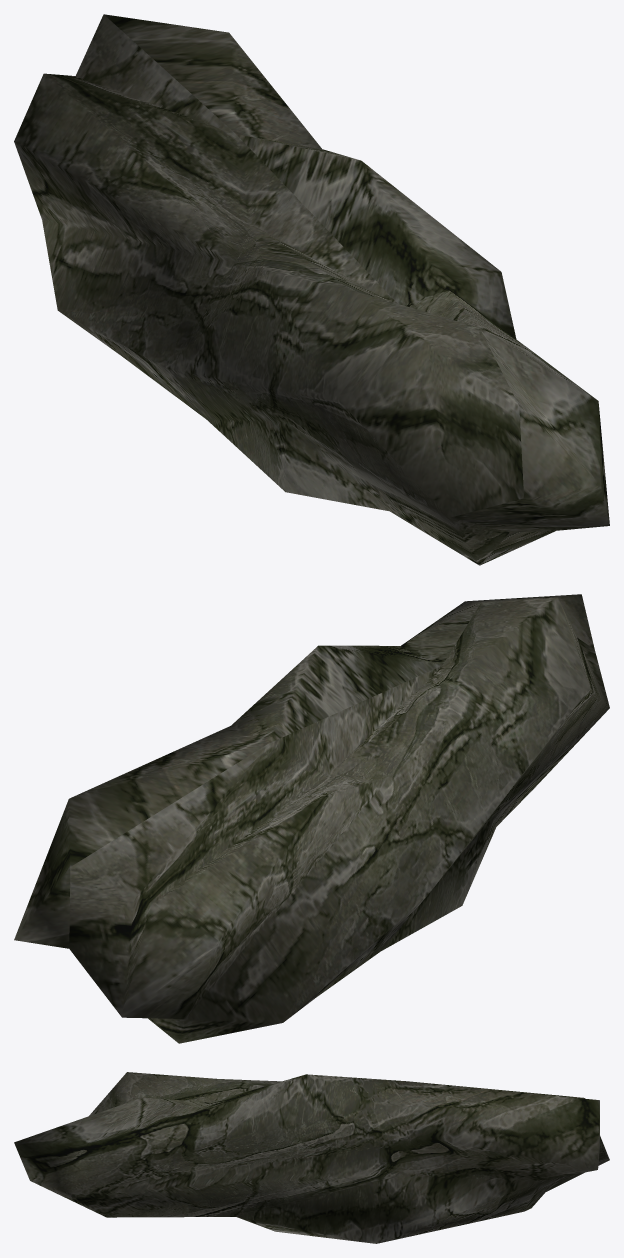
The model's file is TI_Cliff_02_Stone_01_LOD_01.fbx.
3 renders of one model, top to bottom at view 1: azimuth 30°, elevation 25°; view 2: azimuth 150°, elevation 25°; view 3: azimuth 270°, elevation 25°, orthographic. The views are drawn at different scales.
Parts seen in each view (by area): view 1: TI_Cliff_02_Stone_01_LOD_01; view 2: TI_Cliff_02_Stone_01_LOD_01; view 3: TI_Cliff_02_Stone_01_LOD_01.
Boxes of the visible parts, x1,y1,x2,y2 form: TI_Cliff_02_Stone_01_LOD_01: [14, 14, 609, 565]; TI_Cliff_02_Stone_01_LOD_01: [14, 594, 609, 1043]; TI_Cliff_02_Stone_01_LOD_01: [14, 1072, 609, 1243].
Size of the model in its own units: 1.33 by 1.6 by 5.33.
